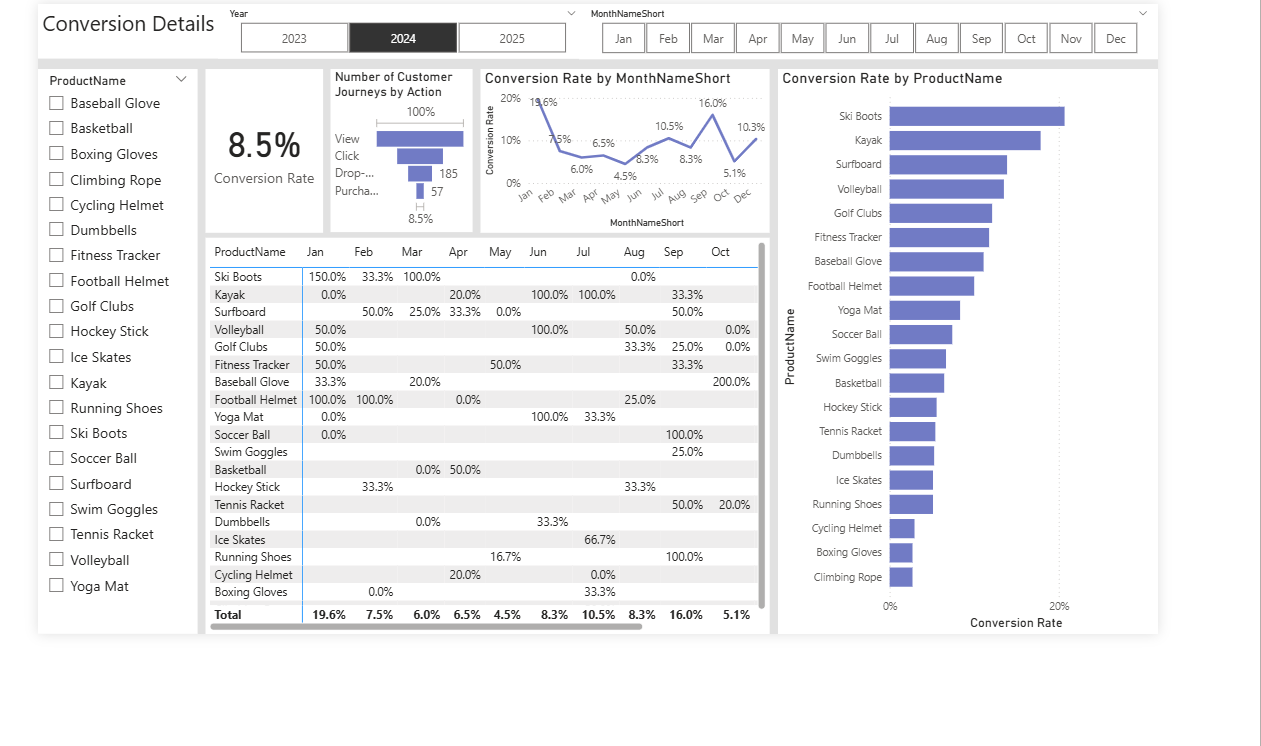

Layout of this report page (visuals, bound fields, positions):
{"tool":"powerbi","page":{"name":"Conversion Details","canvas":[1280,720],"ordinal":1},"visuals":[{"type":"textbox","box":[0,0,1280,62.7],"z":0},{"type":"slicer","fields":{"Values":["dim_products.ProductName"]},"box":[0,74.1,182.4,645.7],"z":1000},{"type":"card","fields":{"Values":["_Calculations.Conversion Rate"]},"box":[190.9,74.4,134.5,187.3],"z":2000},{"type":"slicer","fields":{"Values":["Calendar.Year"]},"box":[205.3,0,421.5,62.4],"z":3000},{"type":"slicer","fields":{"Values":["Calendar.MonthNameShort"]},"box":[618.2,0,661.8,63.4],"z":4000},{"type":"lineChart","fields":{"Y":["_Calculations.Conversion Rate"],"Category":["Calendar.MonthNameShort"]},"box":[505.5,74.4,330.2,187.3],"z":5000},{"type":"clusteredBarChart","fields":{"Category":["dim_products.ProductName"],"Y":["_Calculations.Conversion Rate"]},"box":[845.3,74.4,434.7,646],"z":6000},{"type":"pivotTable","fields":{"Values":["_Calculations.Conversion Rate"],"Rows":["dim_products.ProductName"],"Columns":["Calendar.MonthNameShort"]},"box":[190.9,266.6,644.8,453.9],"z":7000},{"type":"funnel","fields":{"Y":["_Calculations.Number of Customer Journeys"],"Category":["fact_customer_journey.Action"]},"box":[333.8,74.4,162.1,186.1],"z":8000}]}

Visuals, with their boxes on the page's 1280x720 design canvas (x1, y1, x2, y2). These are canvas units, not pixel positions in the 1261x746 screenshot, which may show the page scaled, cropped or inside an application window:
textbox: 0/0/1280/63
slicer - dim_products.ProductName: 0/74/182/720
card - _Calculations.Conversion Rate: 191/74/325/262
slicer - Calendar.Year: 205/0/627/62
slicer - Calendar.MonthNameShort: 618/0/1280/63
lineChart - _Calculations.Conversion Rate x Calendar.MonthNameShort: 506/74/836/262
clusteredBarChart - dim_products.ProductName x _Calculations.Conversion Rate: 845/74/1280/720
pivotTable - _Calculations.Conversion Rate x dim_products.ProductName: 191/267/836/720
funnel - _Calculations.Number of Customer Journeys x fact_customer_journey.Action: 334/74/496/260
